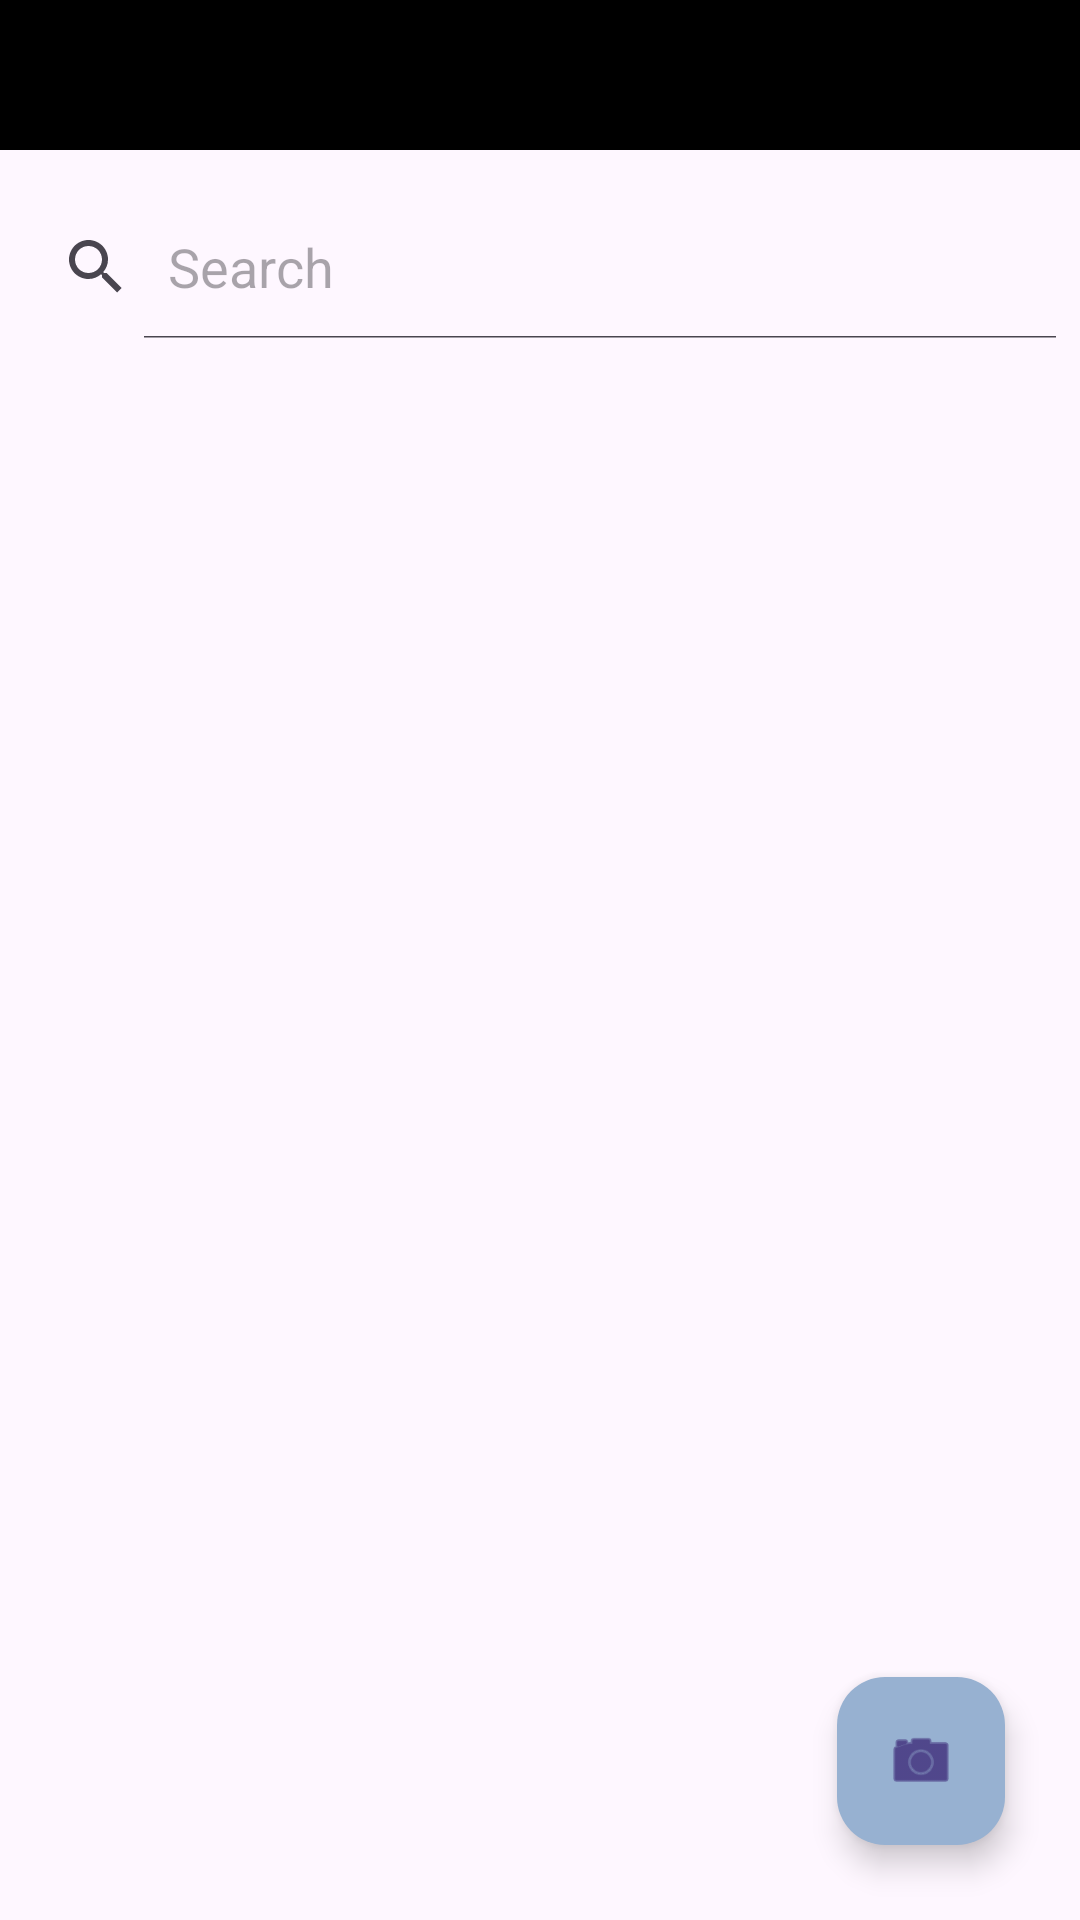

Named icons in this screenshot (1080*1920) and their centers, point (x, y):
camera: point (921, 1761)
